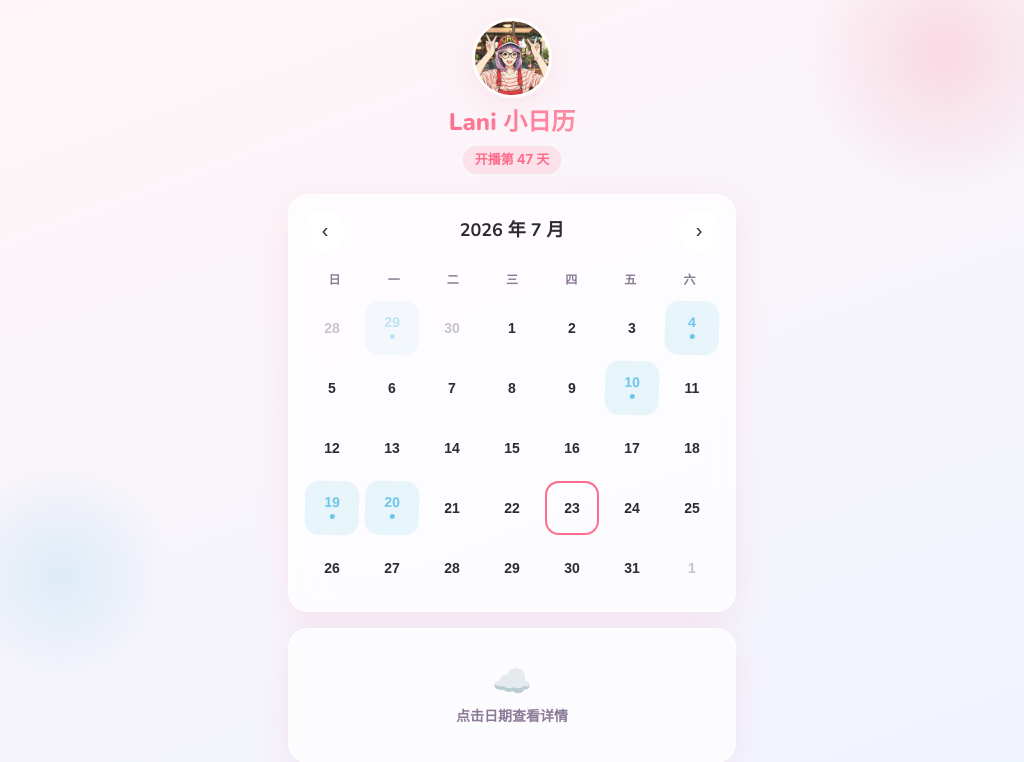
Test: App › should show race detail when race day selected on lani route
Expected: the text "点击日期查看详情" is shown, [456,704,568,726]
Click the button named "上个月". click: (325, 230)
box: [305,210,345,250]
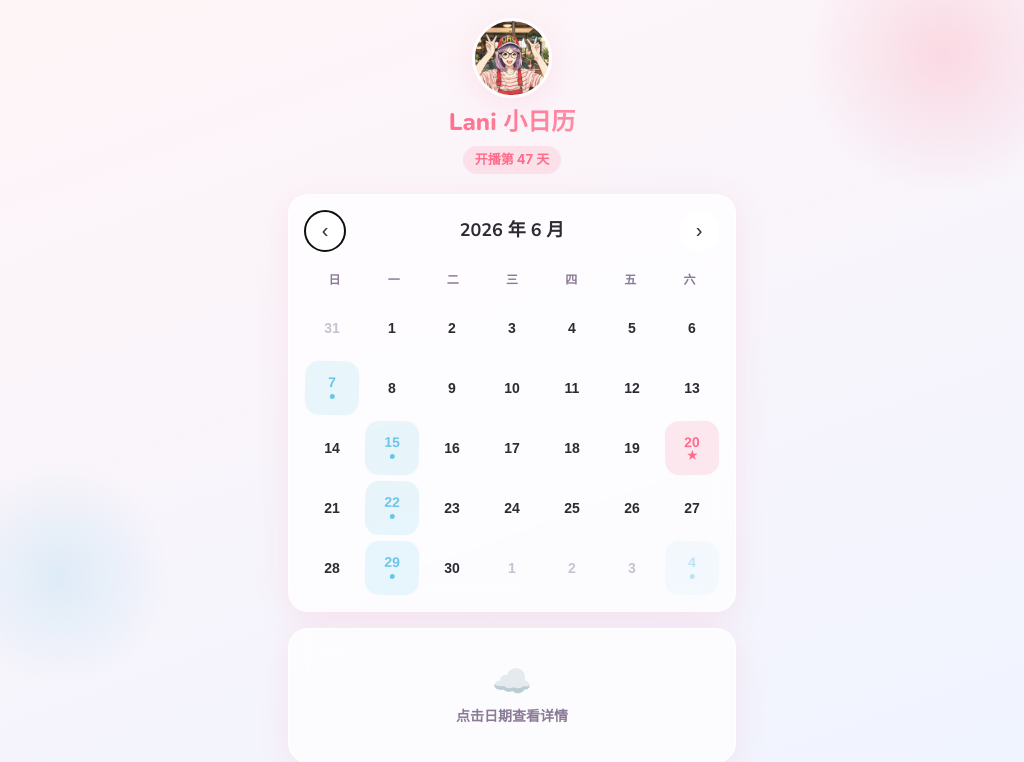
Click the button named "2026-06-20 沪小比赛日". click: (692, 447)
box: [664,420,719,475]
(page scrolled)
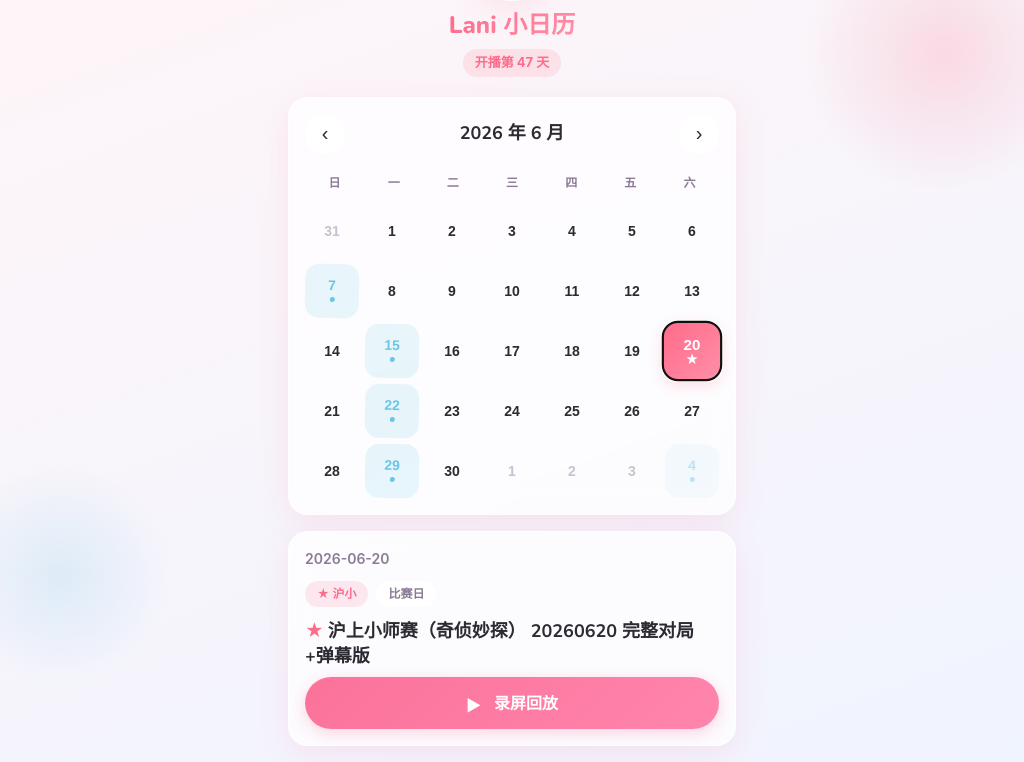
Now the heading "★沪上小师赛（奇侦妙探） 20260620 完整对局+弹幕版" is shown, box [305,618,719,669]
